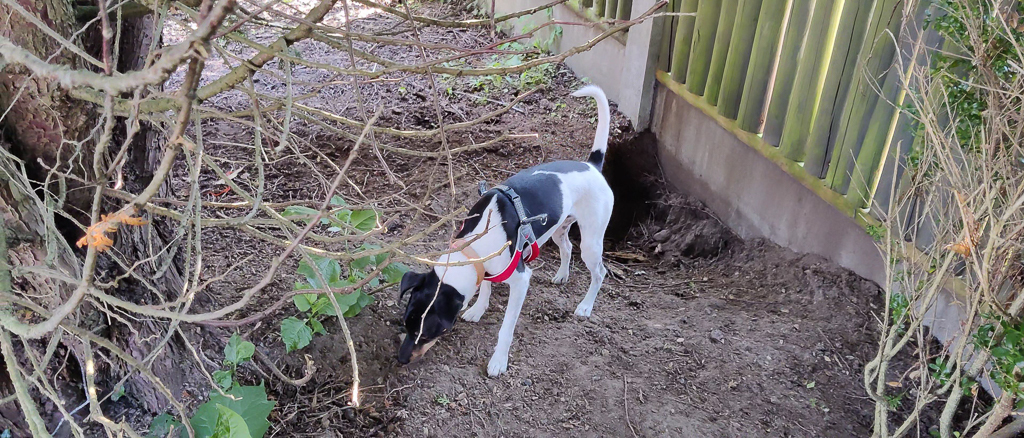Dog: (374, 72, 624, 393)
